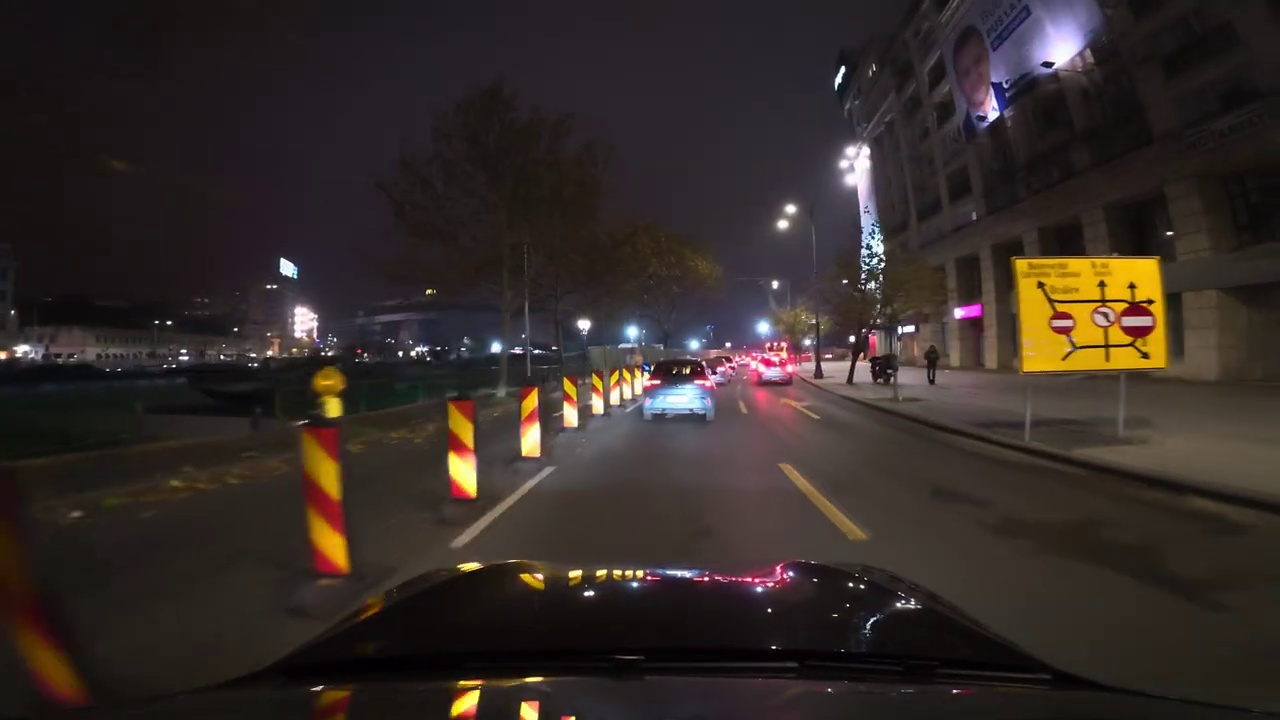acesa: (836, 146, 867, 190), (772, 202, 800, 235), (573, 315, 595, 336)
